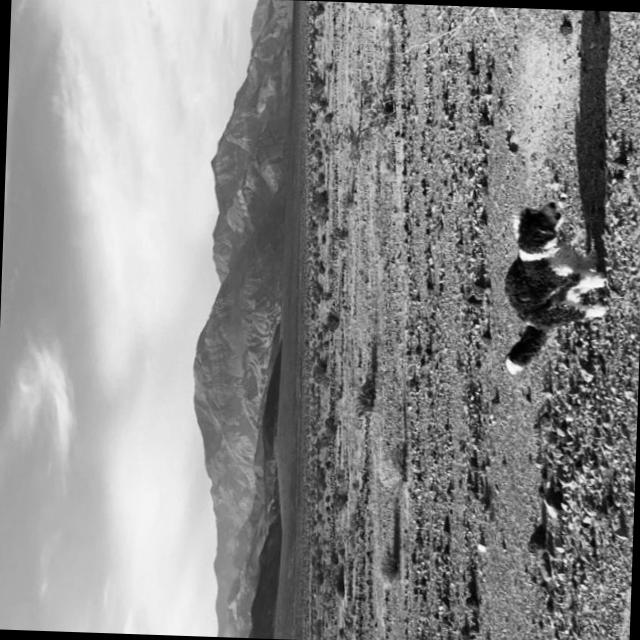squatting: (496, 195, 614, 382)
